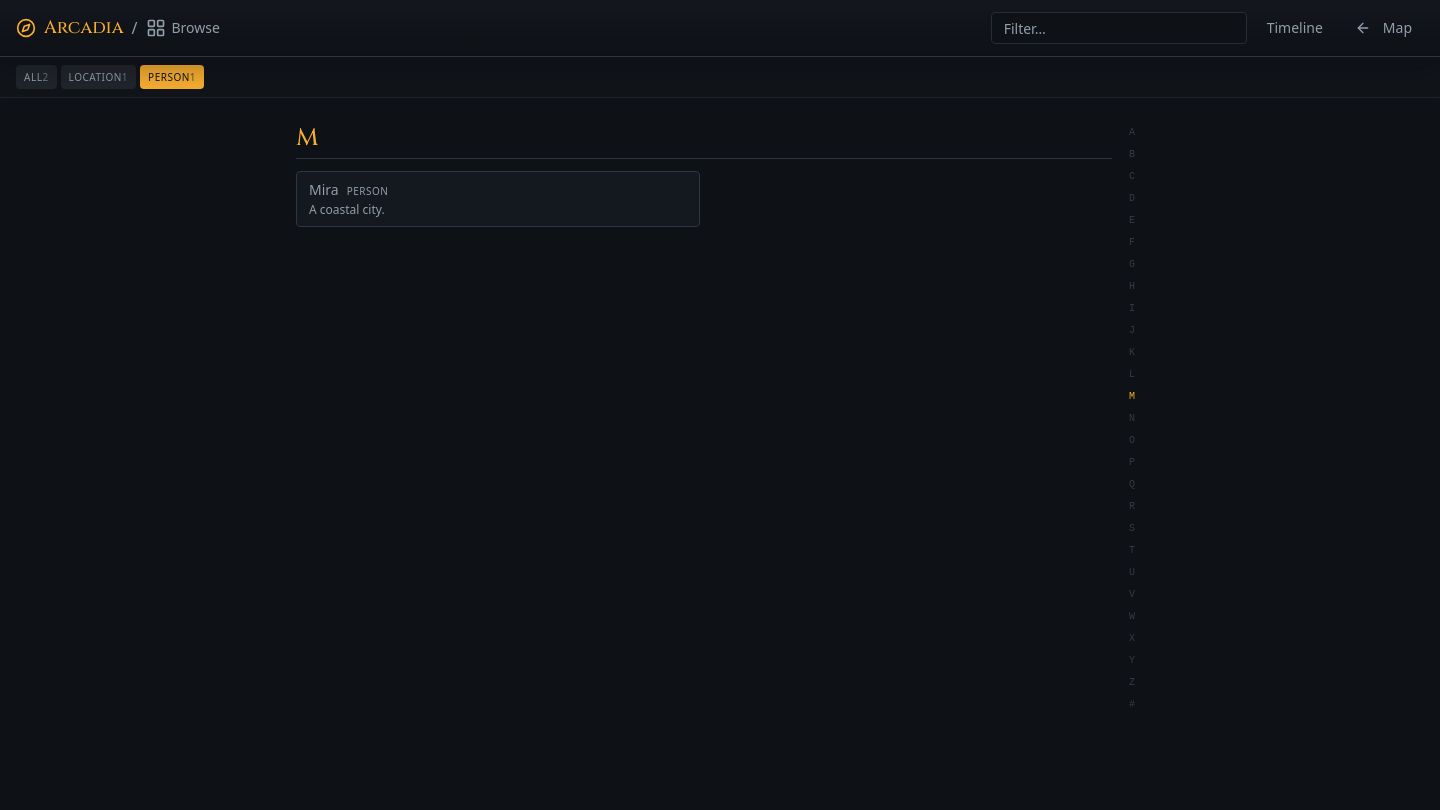
it: AtlasBrowse — URL filter state › clears type filter when clicking the 'all' chip
This screenshot has width=1440, height=810.
Expected: the link "Mira" is shown, x1=309 y1=180 x2=339 y2=200
Click the button "all 2".
click(36, 77)  # box x1=16 y1=65 x2=57 y2=89
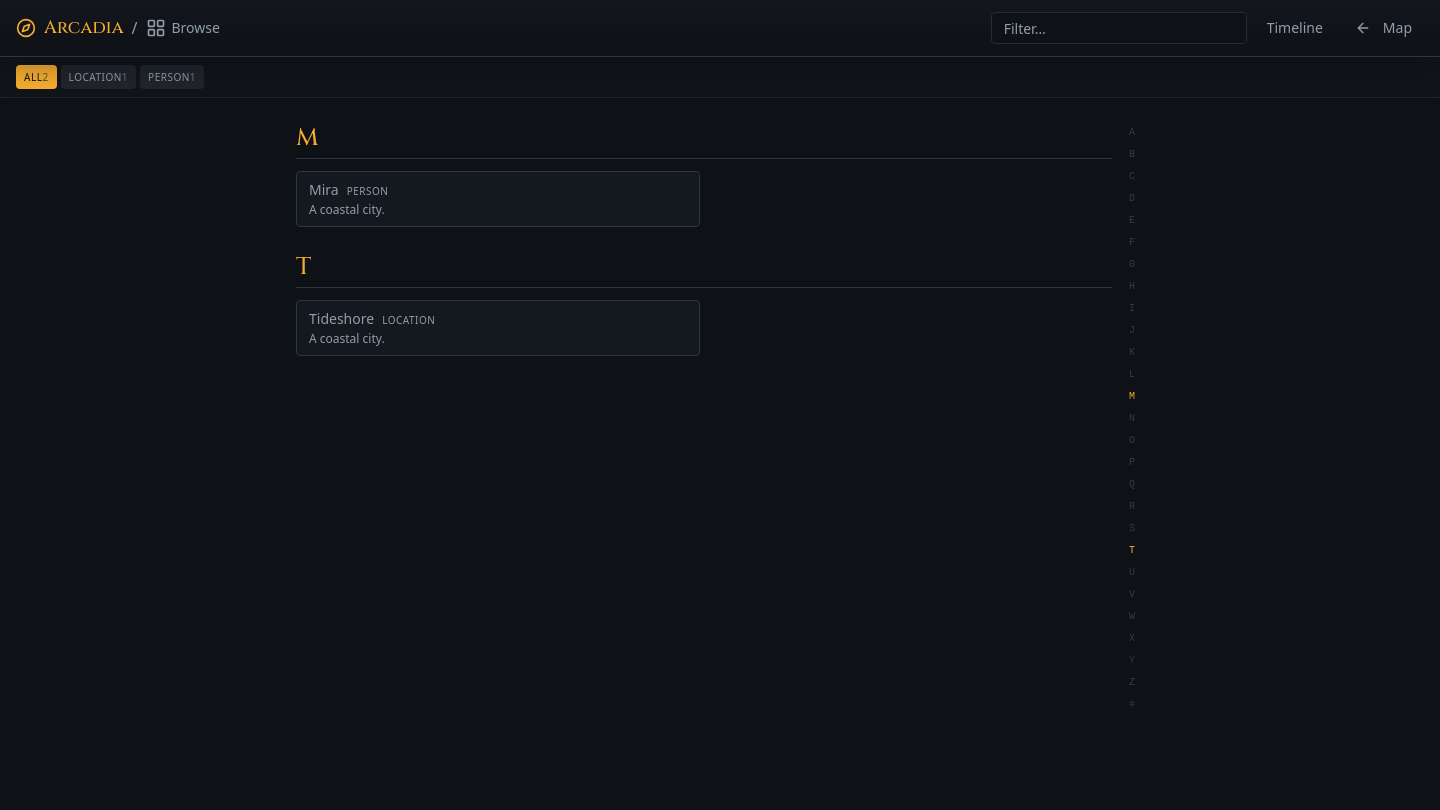
Expected: the link "Mira" is shown, x1=309 y1=180 x2=339 y2=200
Expected: the link "Tideshore" is shown, x1=309 y1=309 x2=374 y2=329
